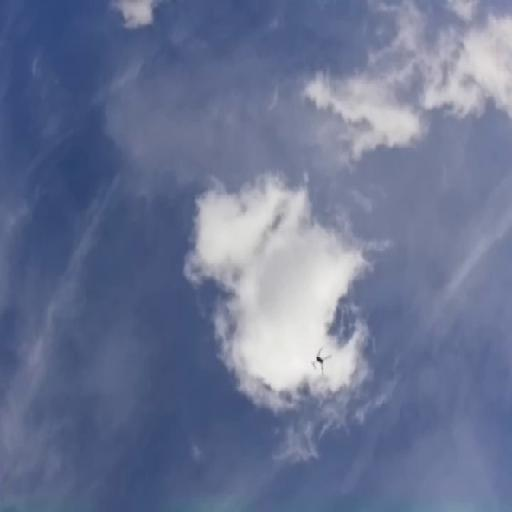drones: (309, 344, 334, 382)
